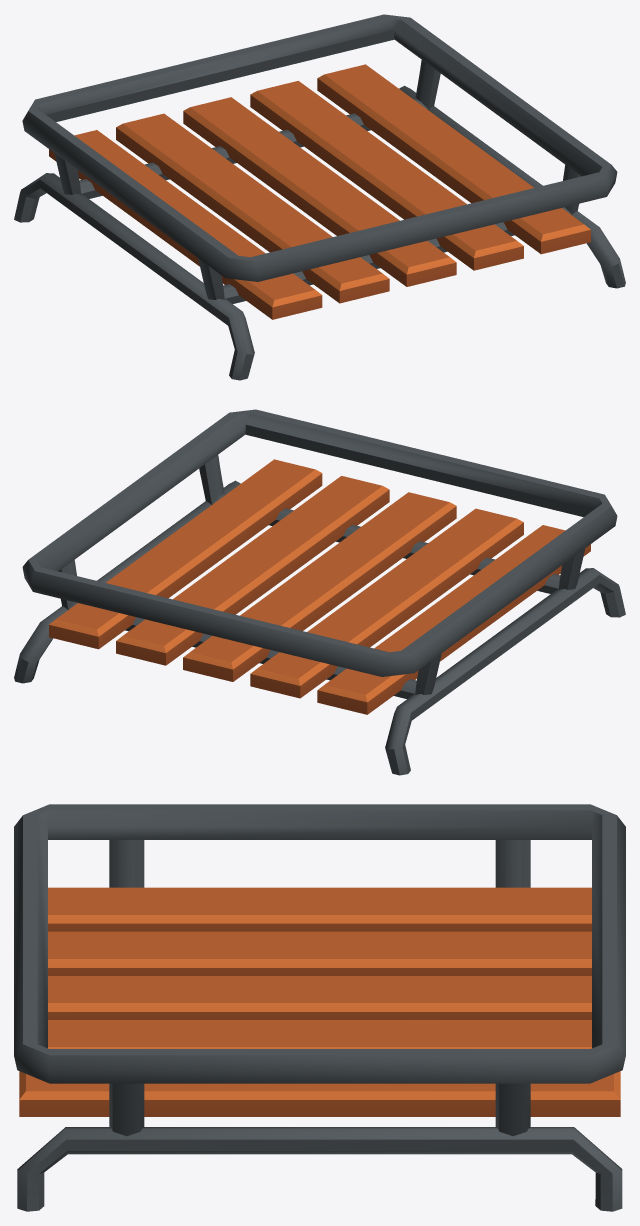
Rendered from roofrack_empty.glb.
3 views of the same model, one above another, from view 1: azimuth 30°, elevation 25°; view 2: azimuth 150°, elevation 25°; view 3: azimuth 270°, elevation 25° (orthographic). The views are drawn at different scales.
Visible parts, largest first — view 1: roofrack_empty; view 2: roofrack_empty; view 3: roofrack_empty.
Boxes of the visible parts, x1,y1,x2,y2 form: roofrack_empty: (14,14,625,380); roofrack_empty: (14,409,625,775); roofrack_empty: (14,804,625,1211).
Bounding box in the file's own units: 1.59 × 0.4359 × 1.58.
1 material, 1 textured.
